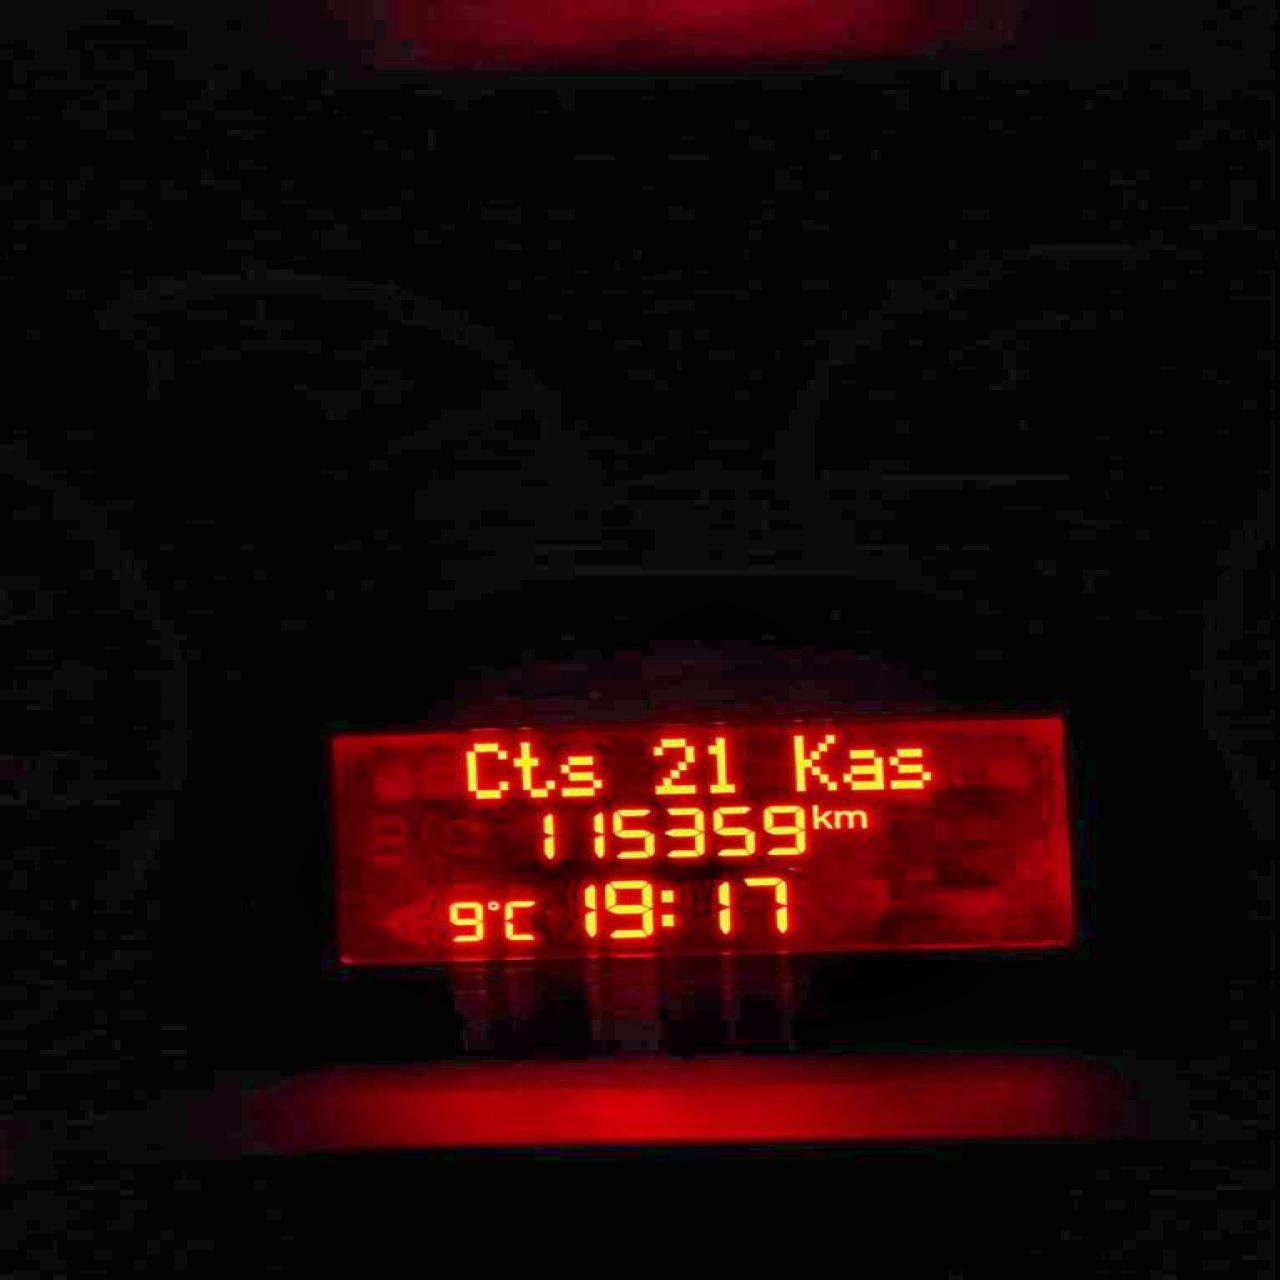1: (702, 735, 737, 794), (578, 883, 600, 939), (712, 878, 734, 933), (537, 809, 557, 862), (586, 810, 606, 859)
2: (648, 736, 699, 795)
3: (662, 805, 707, 859)
5: (710, 803, 758, 858), (608, 806, 656, 860)
7: (738, 874, 790, 935)
9: (605, 878, 655, 939), (760, 803, 806, 857), (444, 899, 486, 944)
X: (458, 738, 513, 803), (788, 730, 840, 792), (510, 738, 558, 802), (884, 745, 932, 791), (837, 747, 884, 791), (557, 751, 601, 798), (501, 899, 538, 941), (655, 887, 679, 928), (832, 809, 871, 829), (809, 802, 830, 830)
odometer: (315, 702, 1087, 973)
